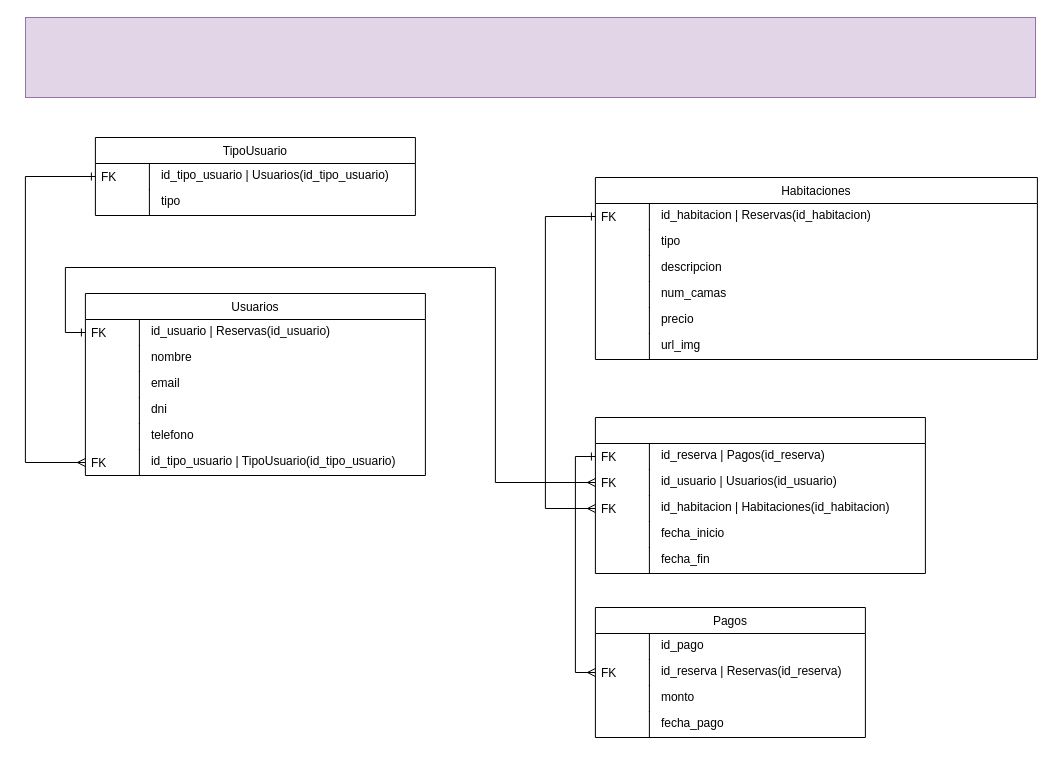
This 1055x758 diagram has some shape labels left out. Here are the shapes that lost their labels. From the top down, the box of each, then its label:
(24, 16, 1036, 98): Diagramas De Clases
(594, 416, 925, 574): Reservas
